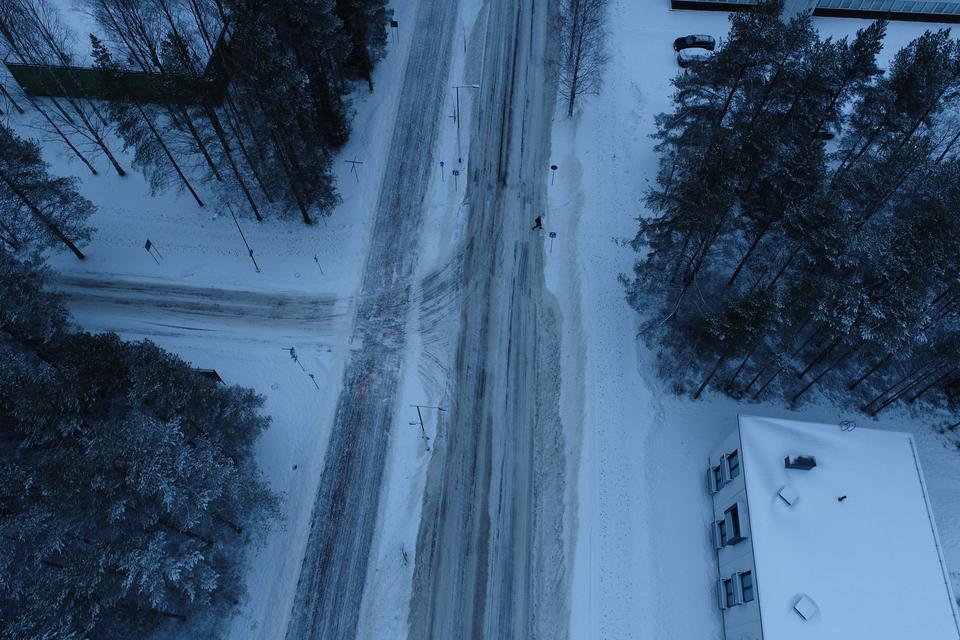intersection: (278, 233, 580, 409)
